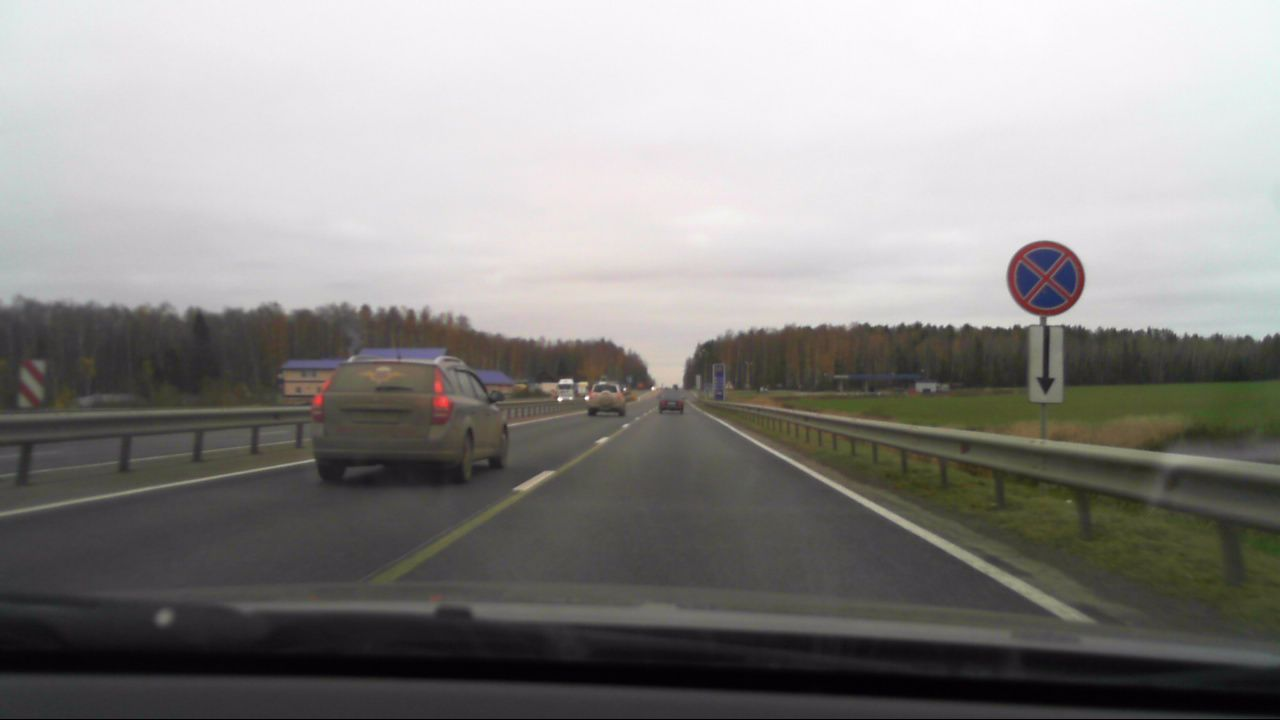No Parking: (1006, 241, 1086, 316)
